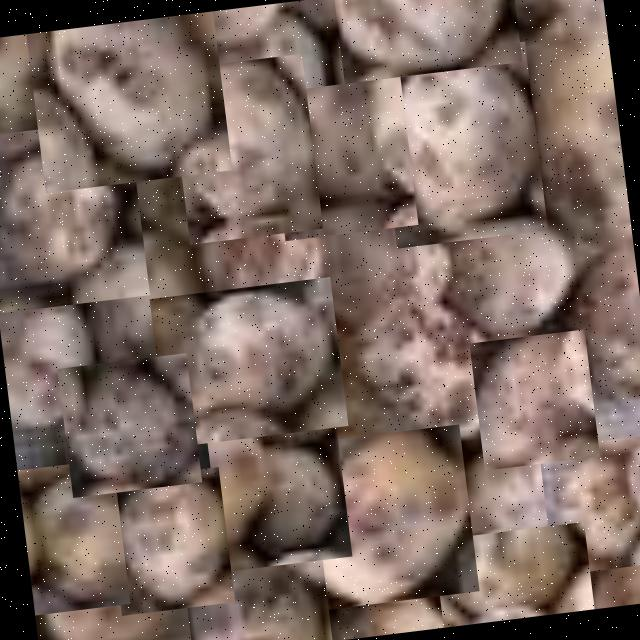Diseased-fungal potato: (279, 424, 478, 613), (25, 11, 231, 193), (372, 41, 546, 248), (336, 270, 518, 459), (148, 276, 347, 448), (261, 40, 417, 241), (168, 54, 322, 245), (0, 118, 149, 313), (427, 199, 596, 342), (204, 411, 351, 572), (64, 227, 211, 379), (298, 194, 460, 328), (56, 352, 201, 498), (104, 466, 234, 616), (189, 202, 335, 332), (468, 329, 599, 470), (170, 526, 331, 640), (16, 458, 129, 616), (0, 278, 109, 439), (316, 0, 521, 85), (432, 522, 594, 628), (442, 433, 580, 552), (183, 0, 343, 102), (537, 435, 640, 575), (31, 572, 192, 640)
